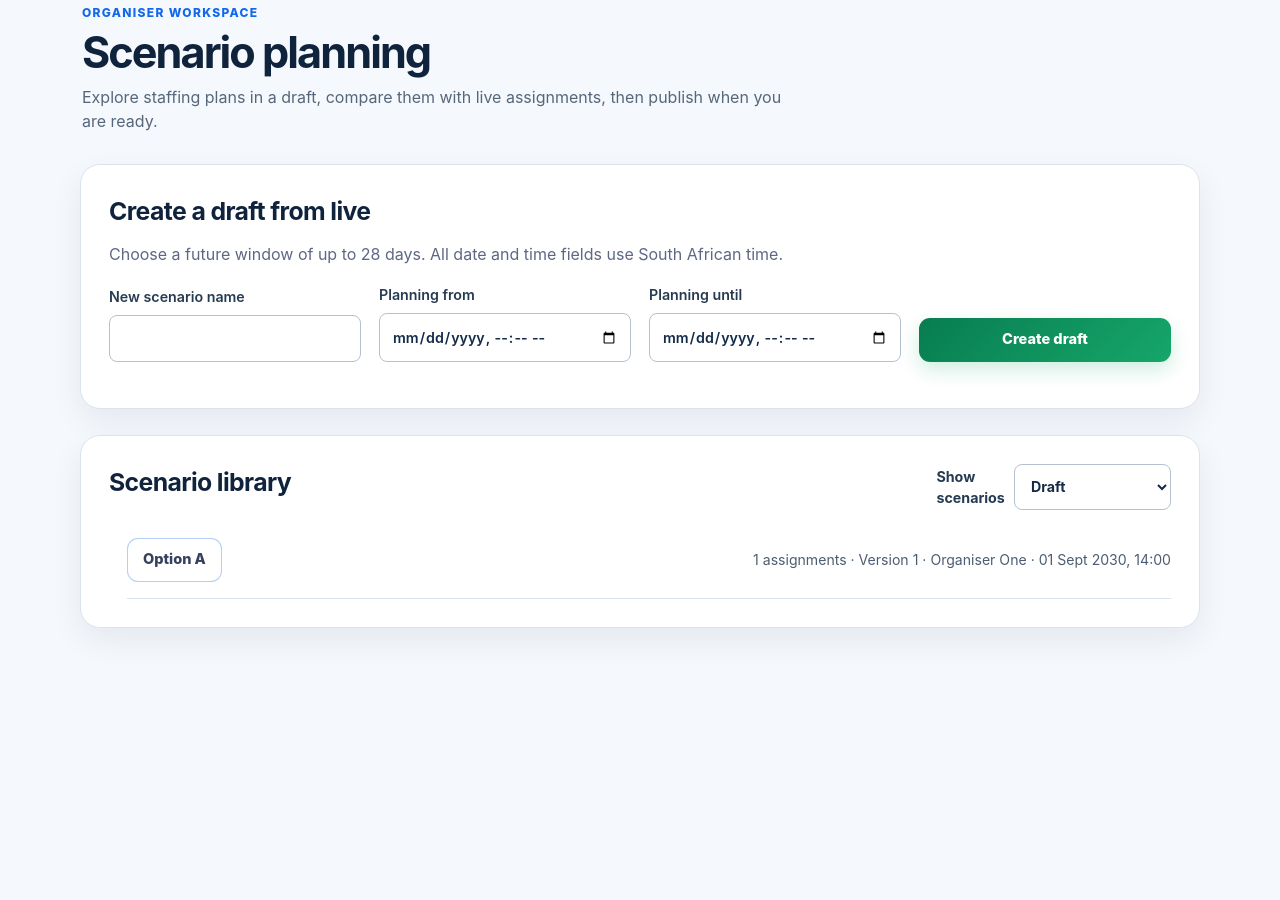
Test: does not allow publishing a stale comparison and treats presence as informational
Click the button "Option A". click: click(174, 560)
box: [127, 538, 222, 582]
(page scrolled)
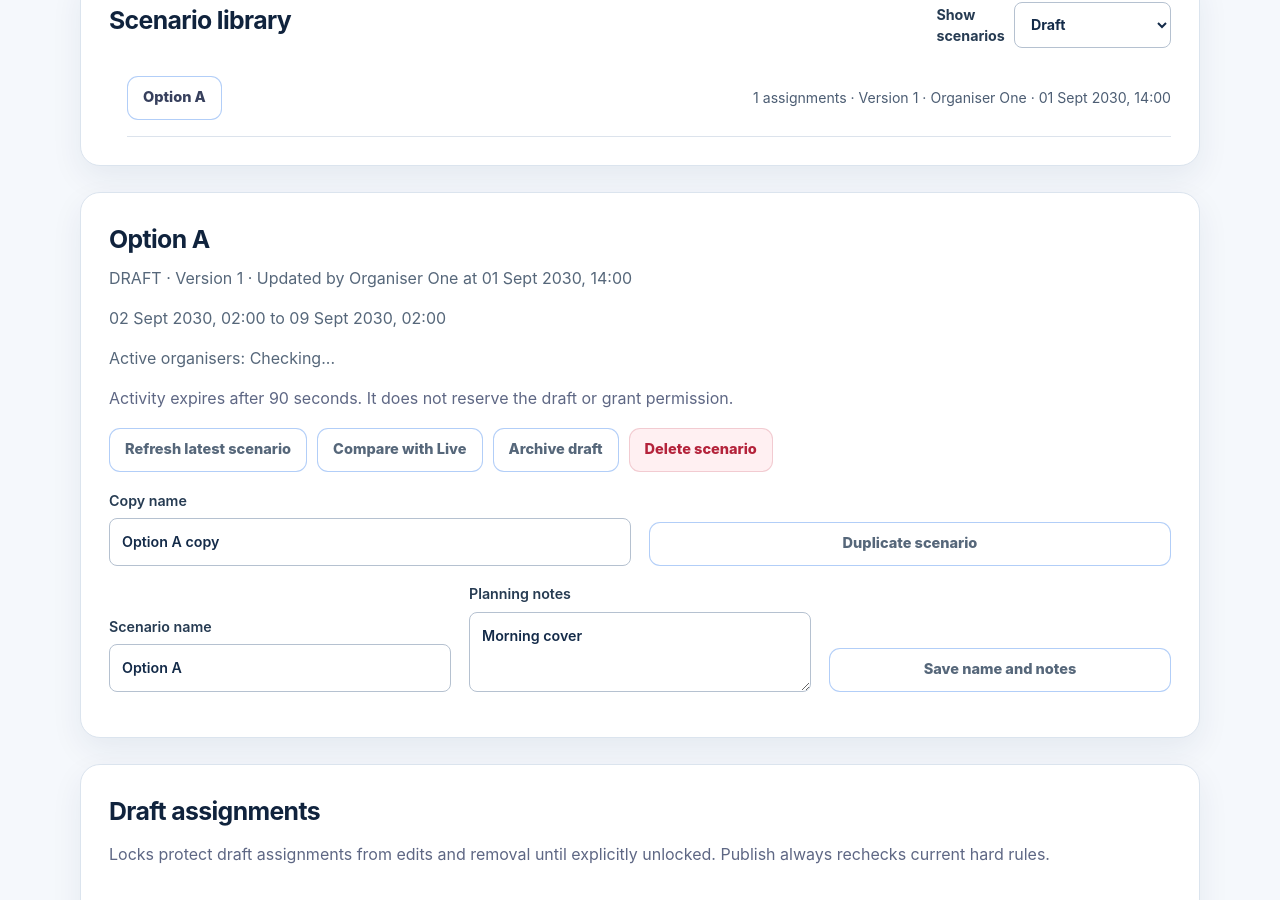
Expected: the heading "Draft assignments" is shown, [109, 796, 320, 826]
Click the button "Compare with Live". click: click(400, 450)
box: [317, 428, 482, 472]
(page scrolled)
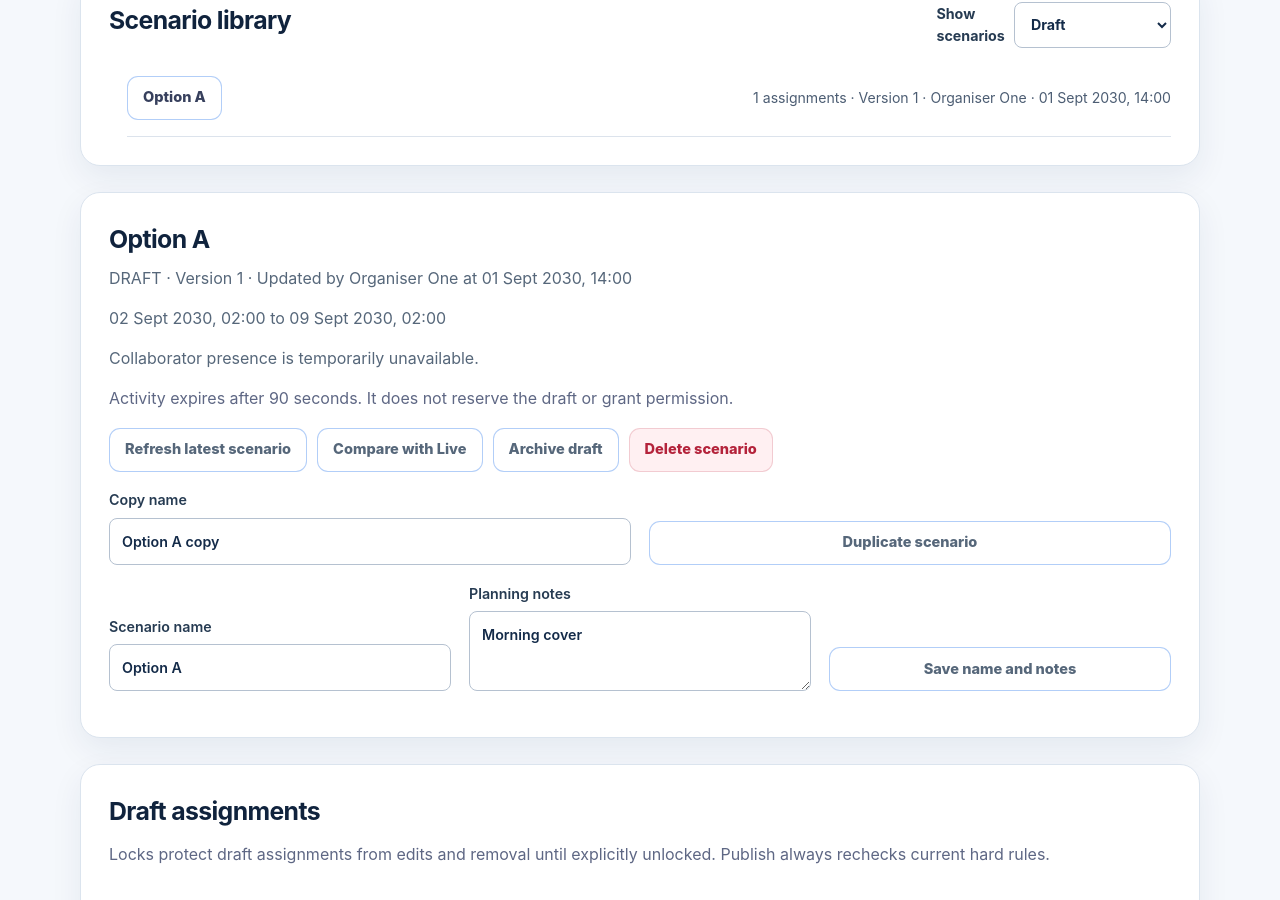
Expected: the text "Collaborator presence is temporarily unavailable." is shown, [109, 348, 479, 368]
